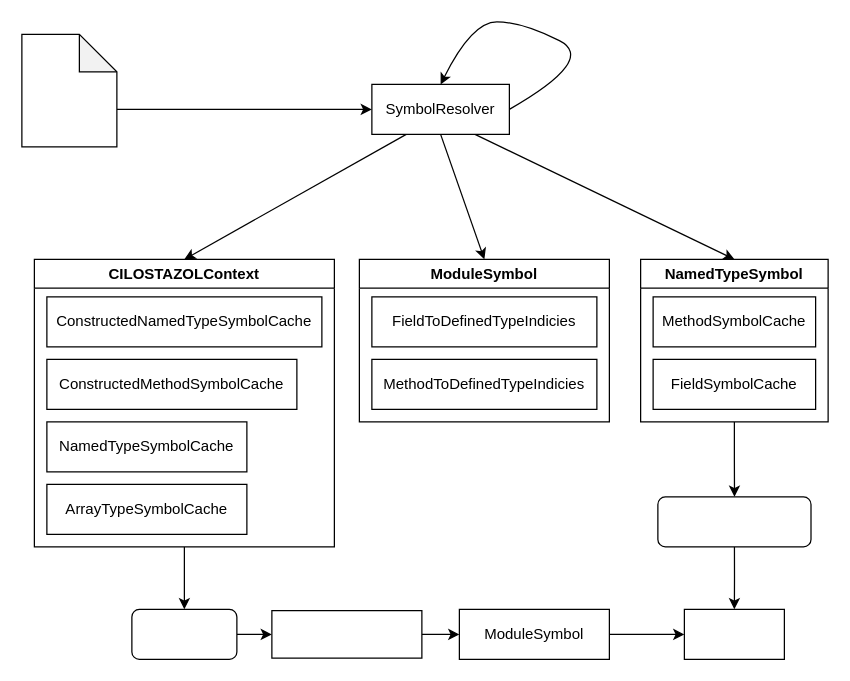
Image size: 850x681. Some labels were removed from this diagram. The centre of each missing label's shape, as x and y in pixels:
AssemblySymbol: (346,633)
Create method/field: (734,521)
Create type: (184,633)
Resolve ...: (69,90)
Symbol factories: (733,633)
